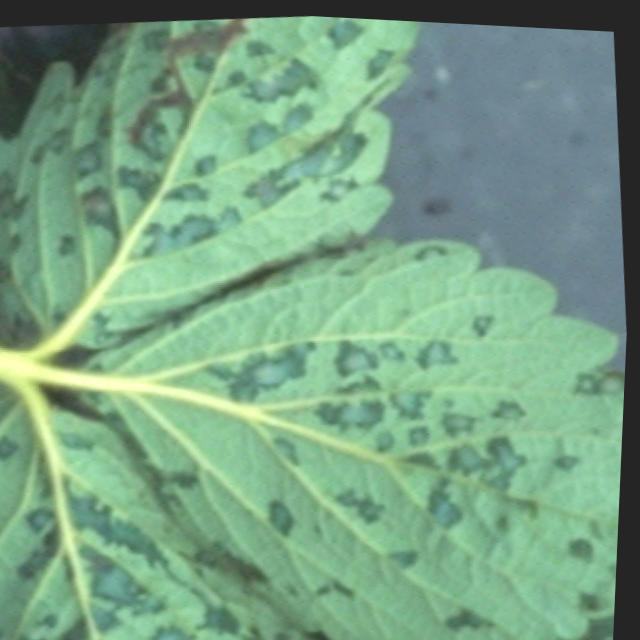Angular Leafspot: (66, 232, 628, 640), (0, 12, 423, 363), (0, 369, 325, 640)
